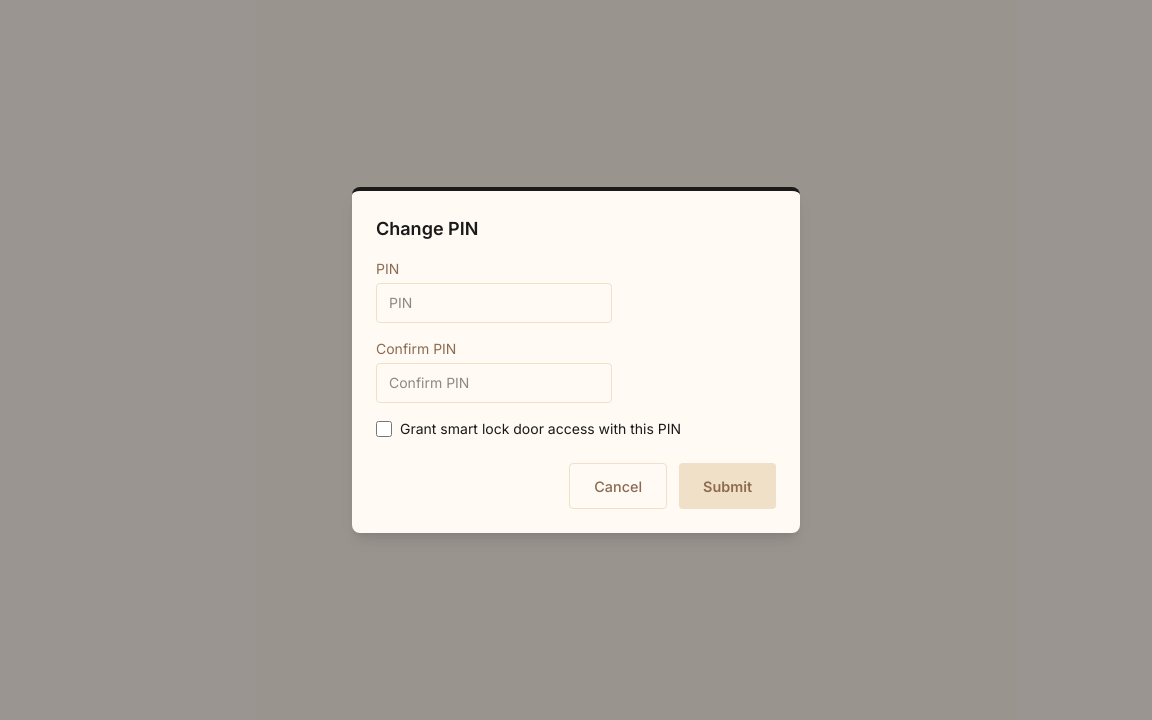
PinModal › disables submit until the form is actually changed
Expected: the button "Submit" is disabled, left=679, top=464, right=776, bottom=509
Type "4" into the password field labelled "PIN" at (494, 303), box left=376, top=283, right=612, bottom=323
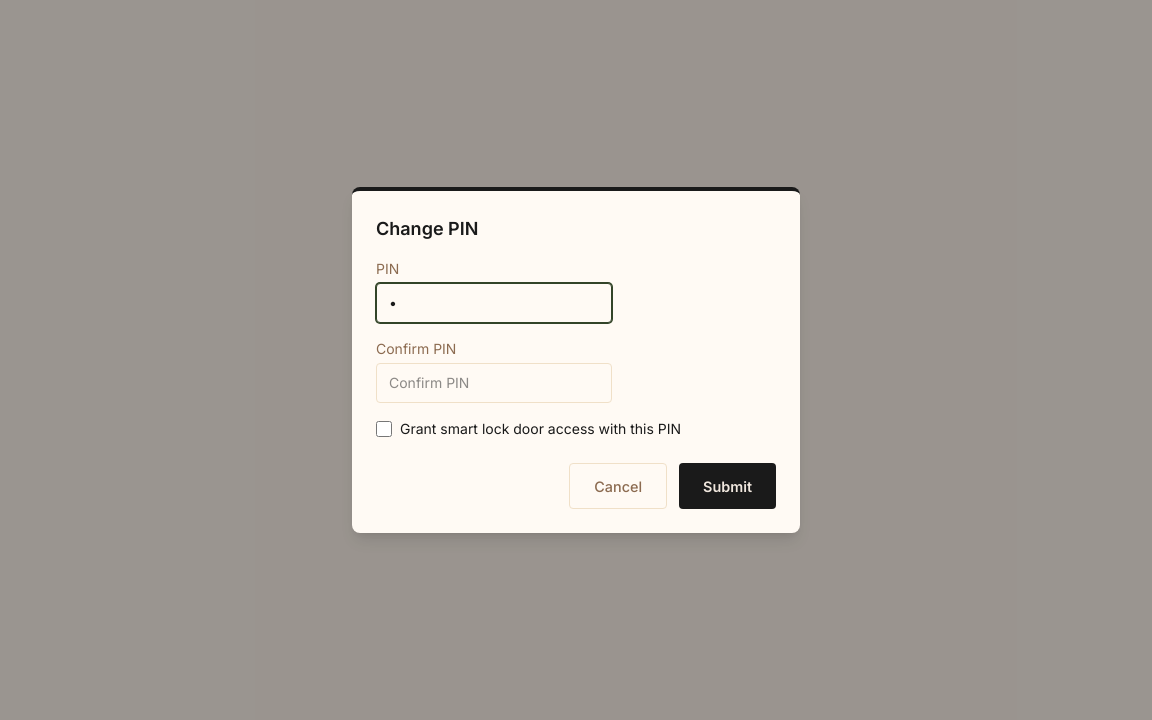
Expected: the button "Submit" is enabled, left=679, top=464, right=776, bottom=509
